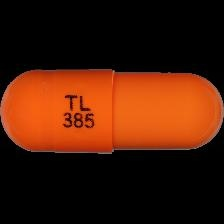49999-227: (0, 0, 224, 224)
